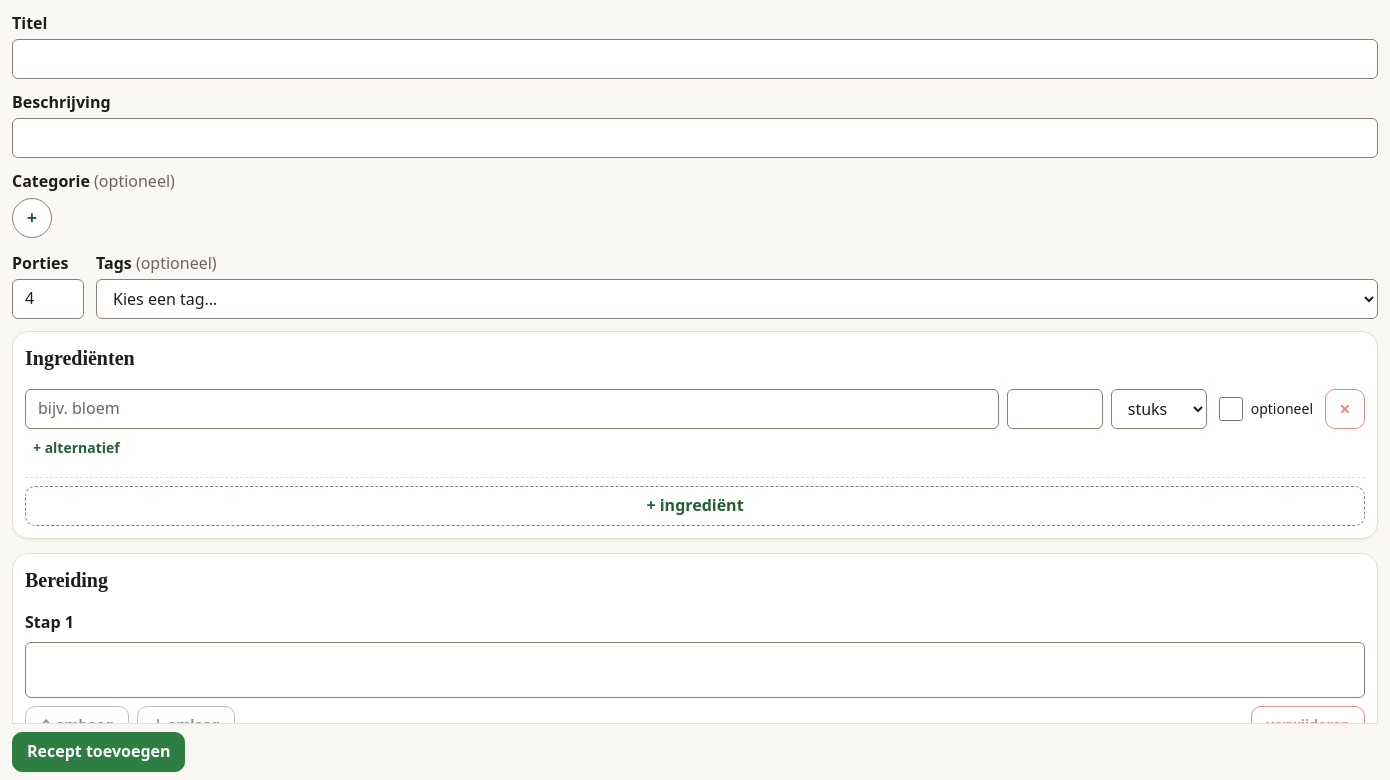
Test: RecipeForm › heeft een verwijderknop met een duidelijke naam voor schermlezers
What coordinates should you click on to do the following:
click the button with class "add" showing "+ ingrediënt"
I would click on:
 (695, 506)
Its box is [25,486,1365,526].
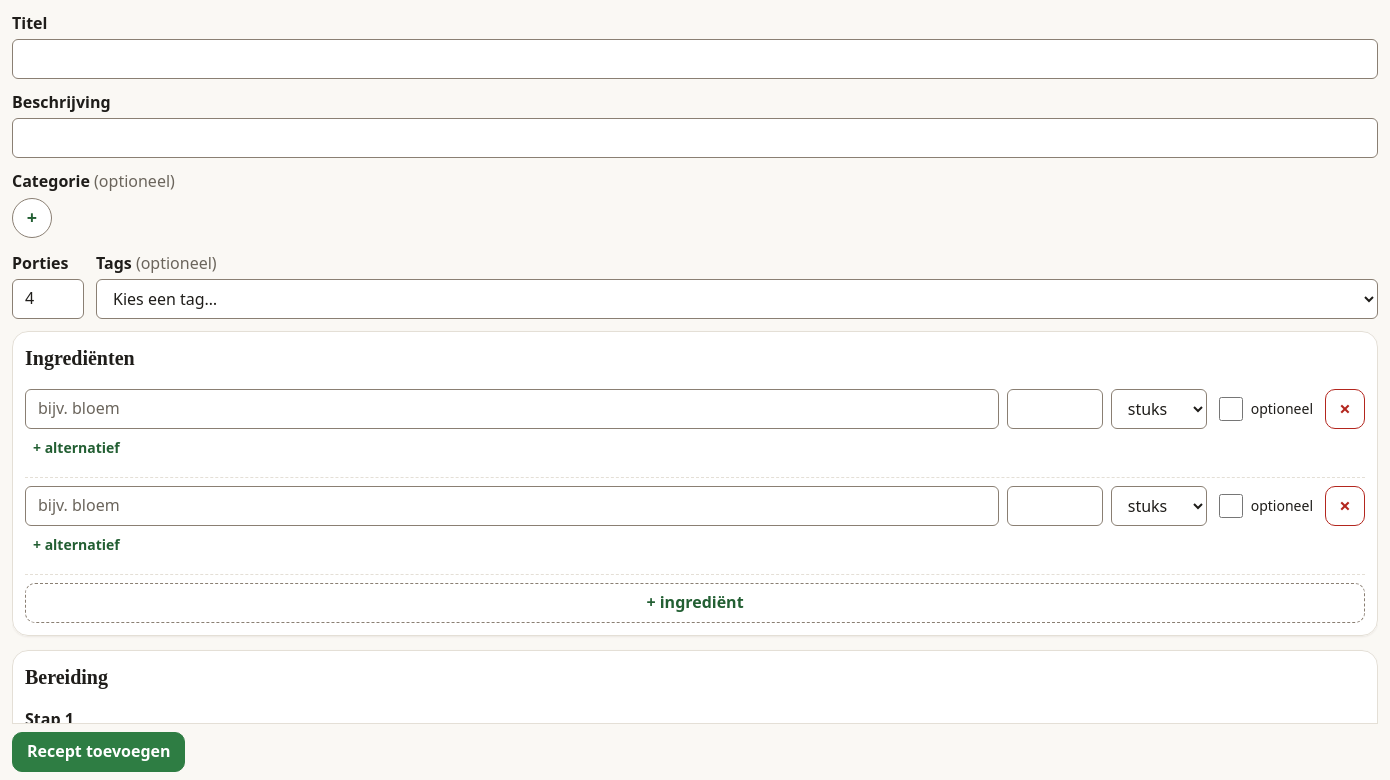
Check: the 2nd button with class "remove" reads "×", box [1325,486,1365,526]
